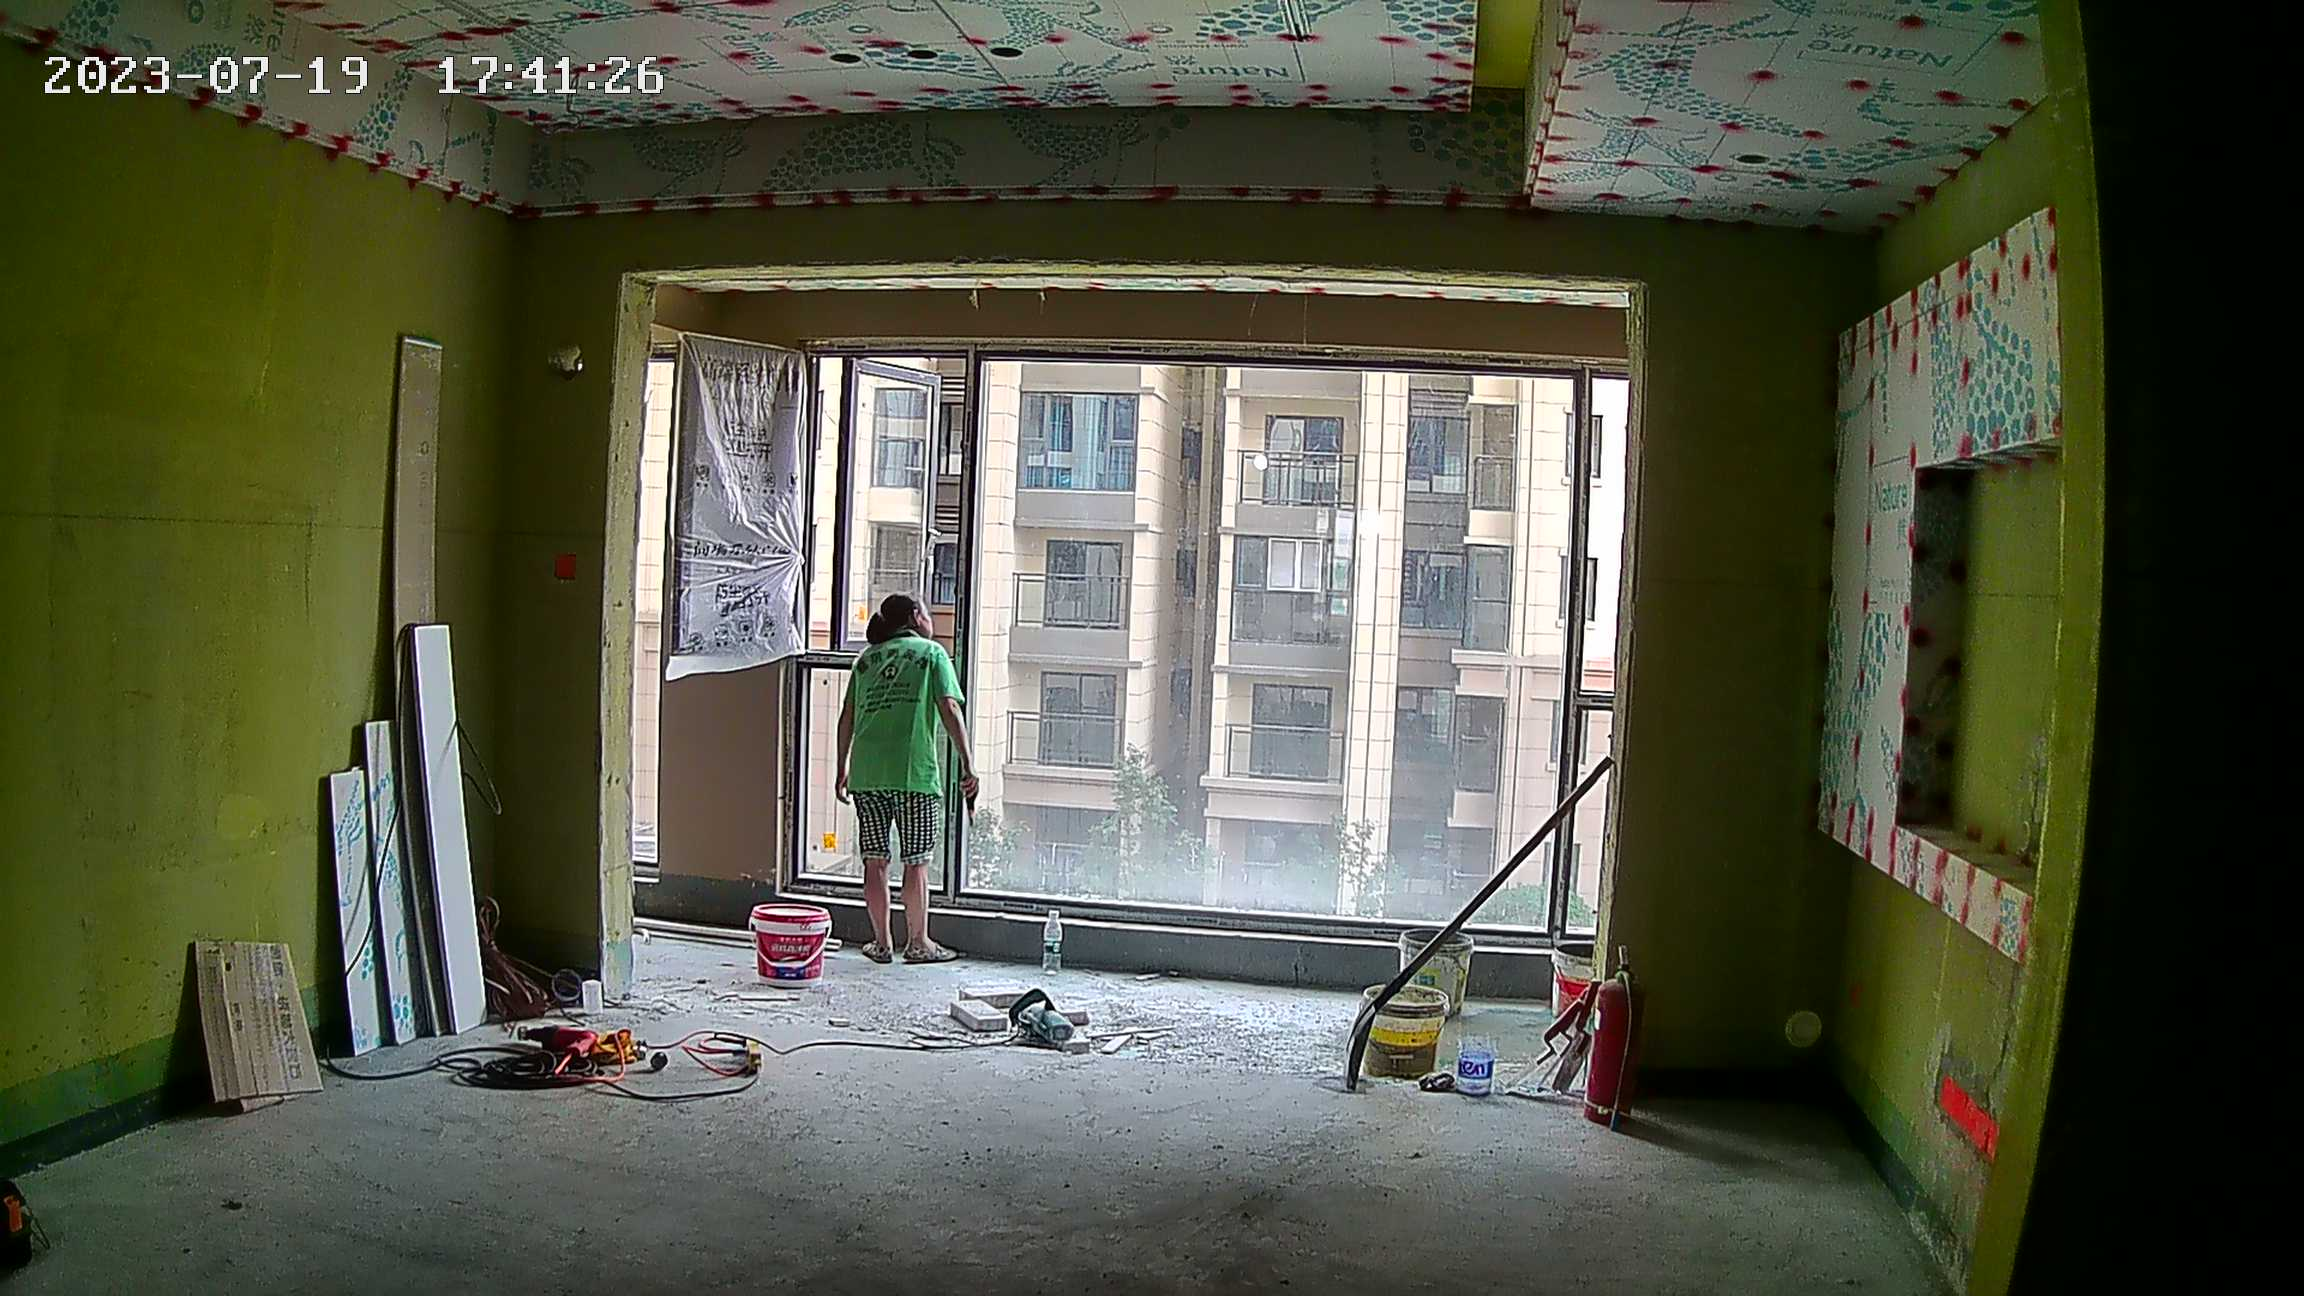people: (832, 591, 979, 970)
window: (791, 346, 1610, 942)
